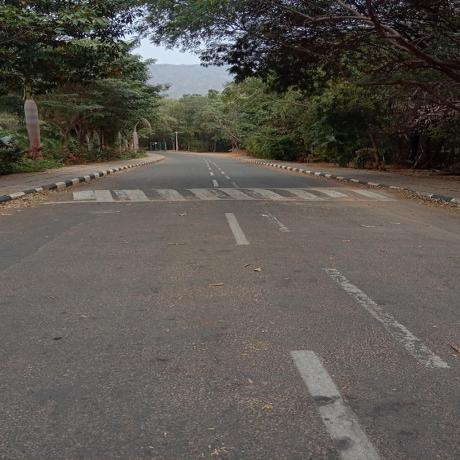Speed Bump: (33, 186, 401, 201)
